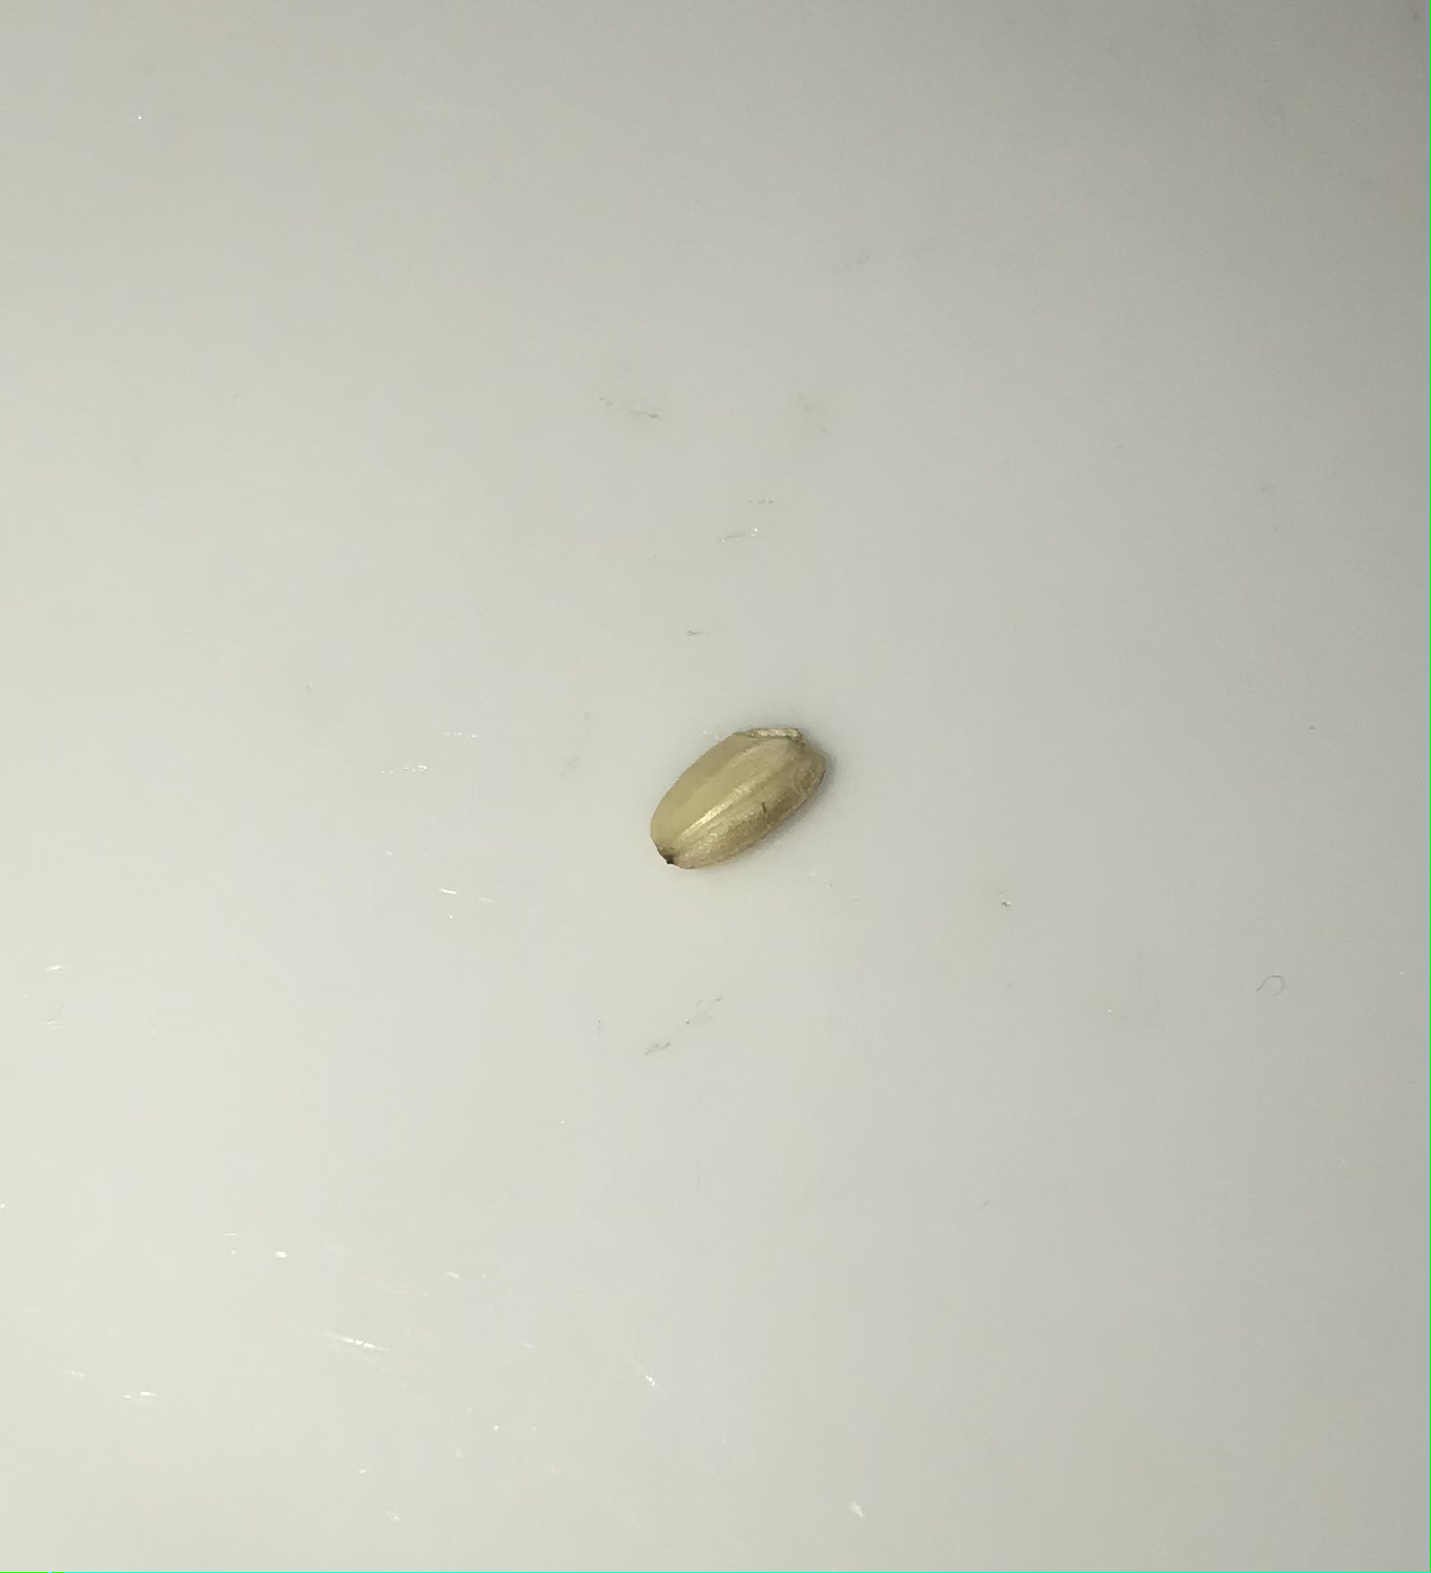Gao Lut Bac: (635, 688, 843, 889)
